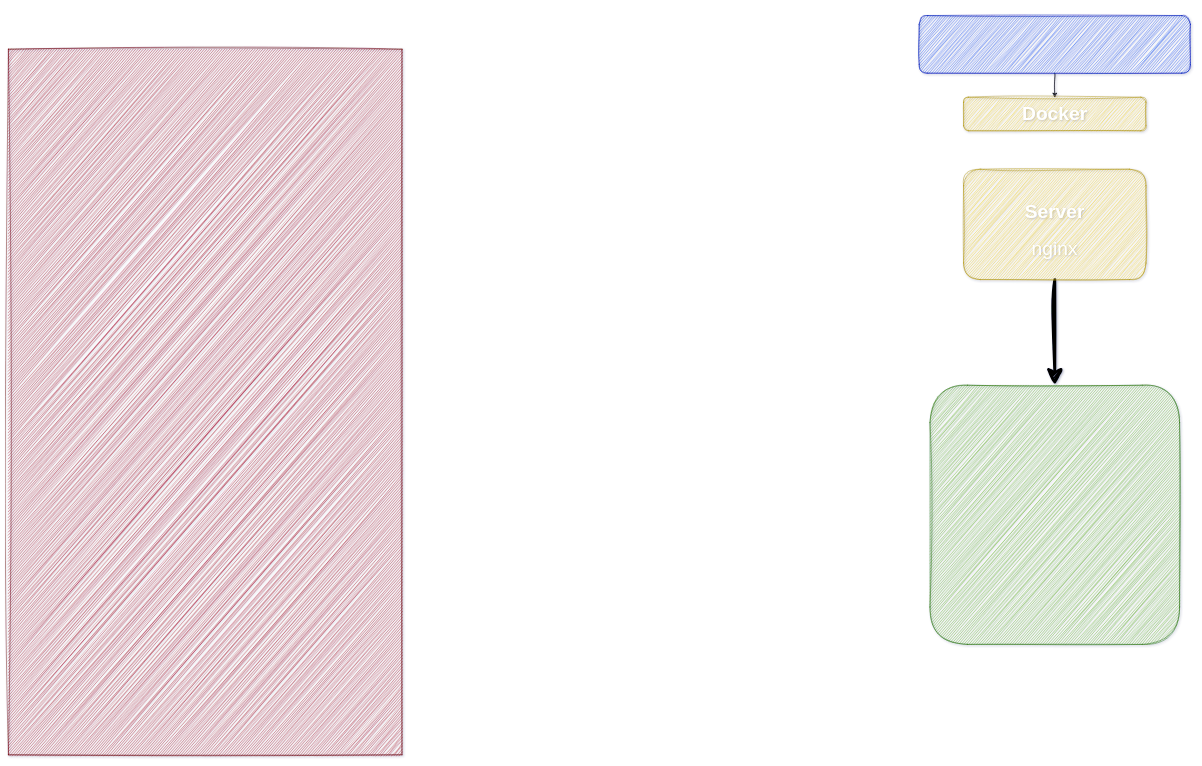
Some shapes in this 1202 by 766 pixel diagram are drawn without their labels. Here are the shapes that lost their labels. From the top down, the box of each, then its label:
(919, 15, 1190, 73): ft_transcendence
(930, 385, 1180, 644): Création de du design du site monopage avec page de login.
